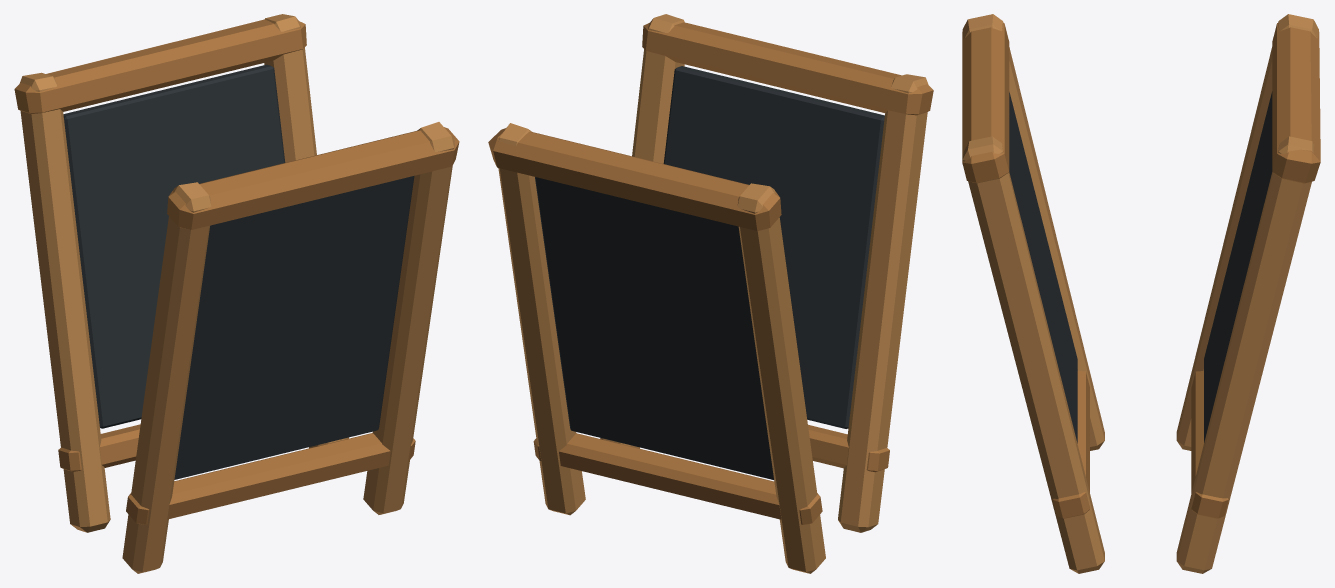
File: aframe_chalkboard.glb
3 views of the same model, side by side, from view 1: azimuth 30°, elevation 25°; view 2: azimuth 150°, elevation 25°; view 3: azimuth 270°, elevation 25° (orthographic). The views are drawn at different scales.
Visible parts, largest first — view 1: aframe_chalkboard; view 2: aframe_chalkboard; view 3: aframe_chalkboard.
Part boxes in pixels (x1,y1,x2,y2): aframe_chalkboard: [14, 14, 459, 573]; aframe_chalkboard: [488, 14, 933, 573]; aframe_chalkboard: [962, 14, 1320, 573].
Size of the model in its own units: 0.6417 by 0.9155 by 0.6914.
